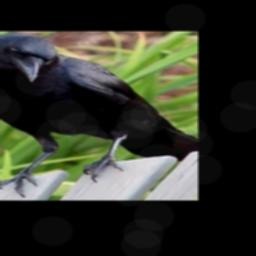Crow: (0, 34, 197, 198)
